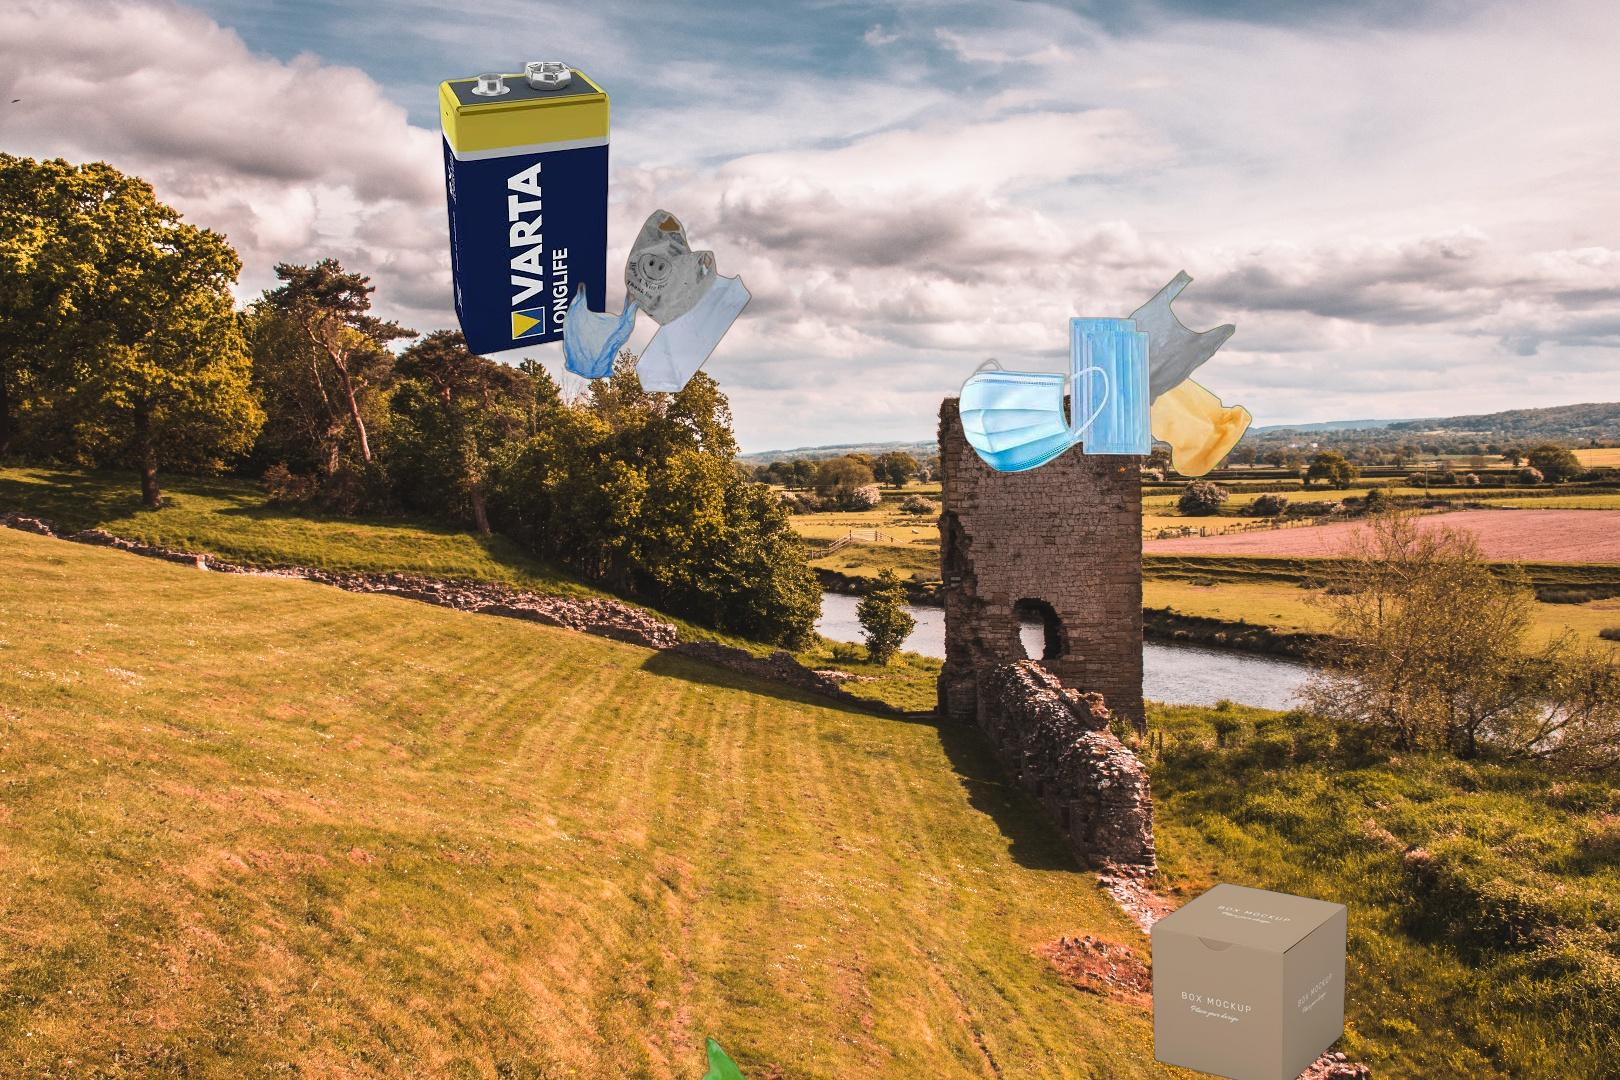battery: (439, 61, 610, 356)
plastic-bag: (1072, 268, 1255, 479), (560, 209, 755, 397), (620, 1035, 775, 1080)
trash: (956, 315, 1154, 475)
trashbox-cardboard: (1147, 880, 1351, 1080)
